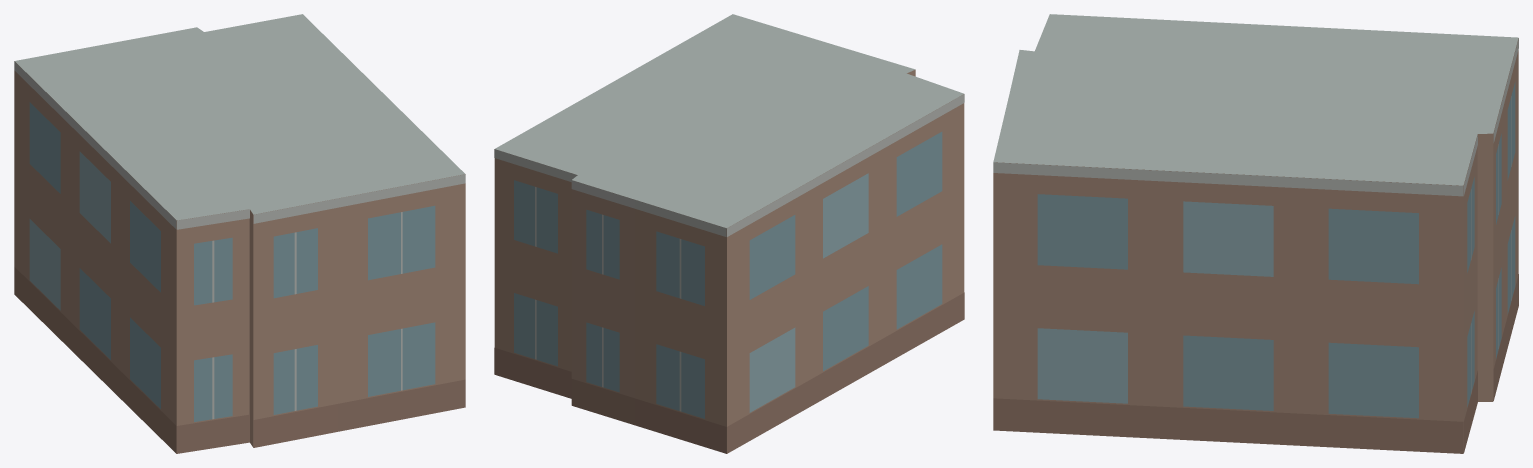
The model's file is survey-upis-32961653.glb.
The picture shows the model from 3 angles, left to right: view 1: azimuth 30°, elevation 25°; view 2: azimuth 150°, elevation 25°; view 3: azimuth 270°, elevation 25°; orthographic projection. The views are drawn at different scales.
Parts seen in each view (by area): view 1: survey-upis-32961653.tmp; view 2: survey-upis-32961653.tmp; view 3: survey-upis-32961653.tmp.
Part boxes in pixels (bbox=[...]): survey-upis-32961653.tmp: bbox=[14, 14, 465, 453]; survey-upis-32961653.tmp: bbox=[494, 14, 964, 453]; survey-upis-32961653.tmp: bbox=[993, 14, 1518, 453].
Bounding box in the file's own units: 8.39 × 6.1 × 10.84.
